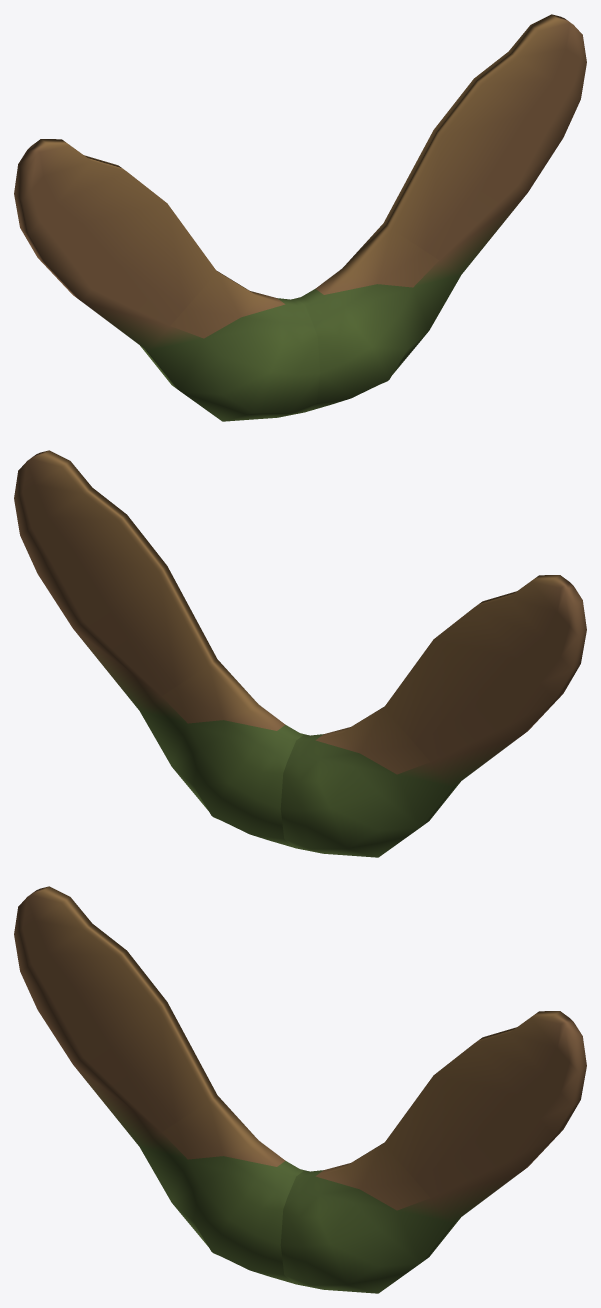
The model's file is trees-seeds-nuts-maple-seed_v2.glb.
The picture shows the model from 3 angles, top to bottom: view 1: azimuth 30°, elevation 25°; view 2: azimuth 150°, elevation 25°; view 3: azimuth 330°, elevation 25°; orthographic projection.
Visible parts, largest first — view 1: Maple Seed_v2; view 2: Maple Seed_v2; view 3: Maple Seed_v2.
Boxes of the visible parts, bbox=[...] form: Maple Seed_v2: bbox=[14, 14, 586, 421]; Maple Seed_v2: bbox=[14, 450, 586, 857]; Maple Seed_v2: bbox=[14, 886, 586, 1293].
Size of the model in its own units: 0.05 by 0.0279 by 0.00651.
